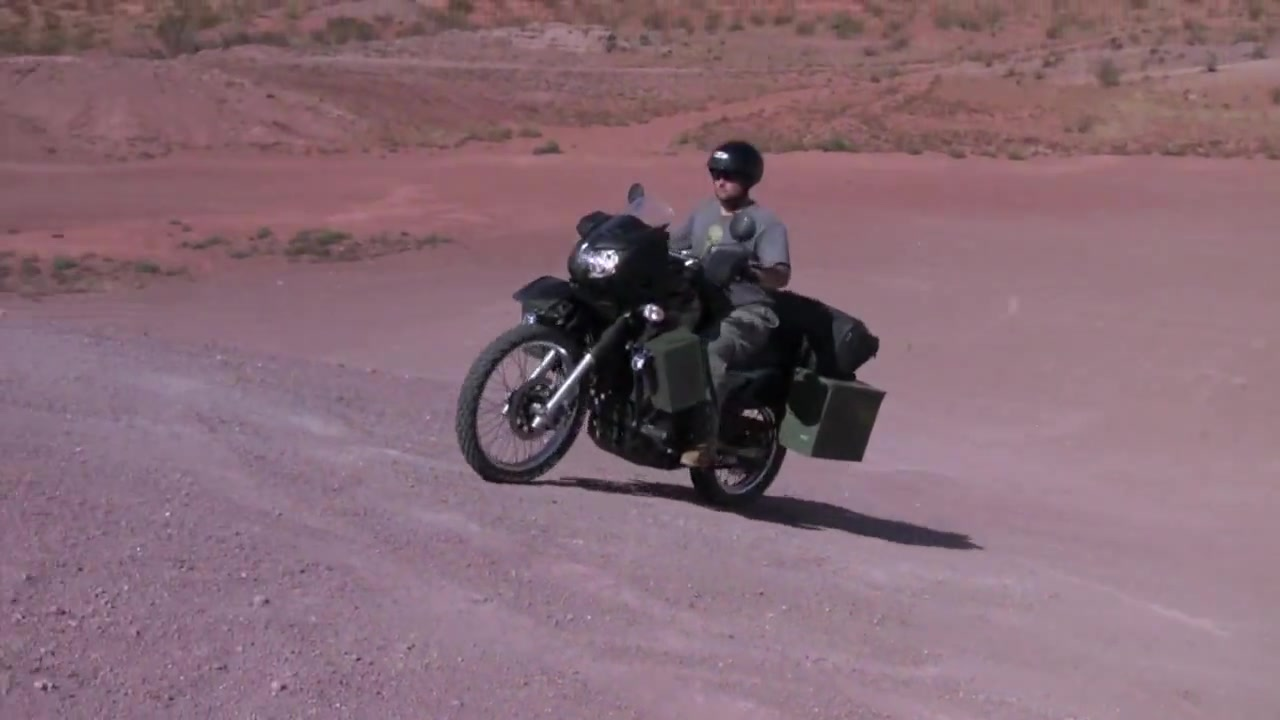motorbike: (451, 185, 887, 516)
